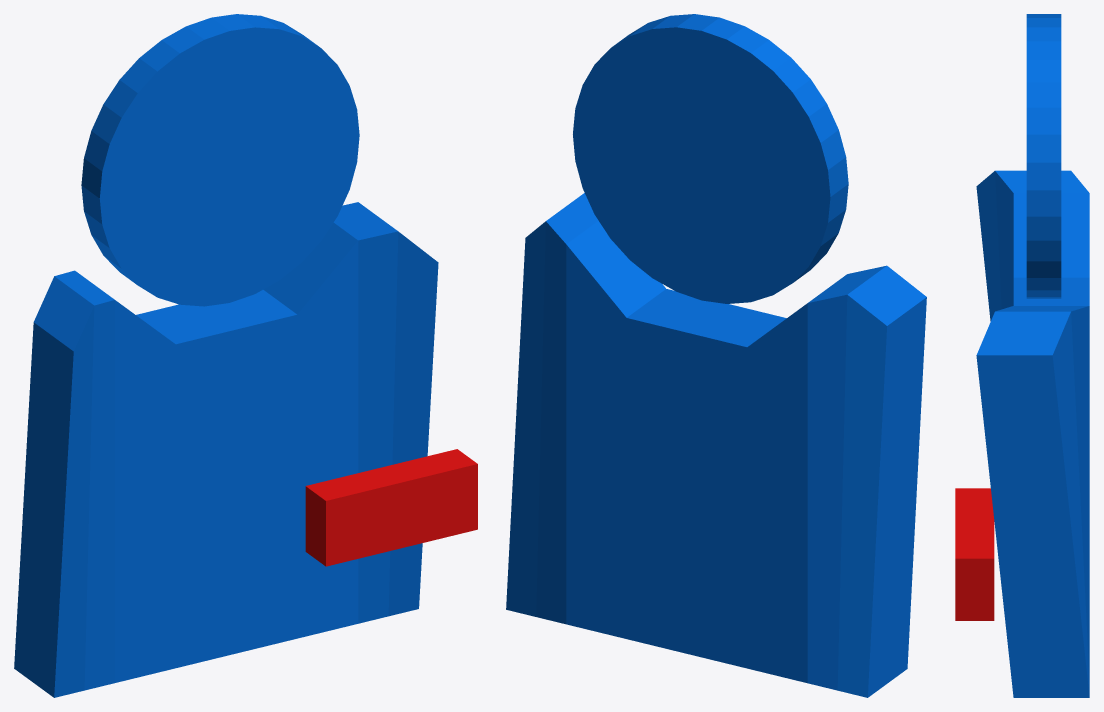
Rendered from diminuirpersonagem.fbx.
3 renders of one model, left to right at view 1: azimuth 30°, elevation 25°; view 2: azimuth 150°, elevation 25°; view 3: azimuth 270°, elevation 25°, orthographic. The views are drawn at different scales.
Parts seen in each view (by area): view 1: Cube; view 2: Cube; view 3: Cube.
Part boxes in pixels (x1=…): Cube: x1=14, y1=14, x2=477, y2=697; Cube: x1=506, y1=14, x2=926, y2=697; Cube: x1=955, y1=14, x2=1089, y2=697.
Size of the model in its own units: 215 by 323 by 67.2.
